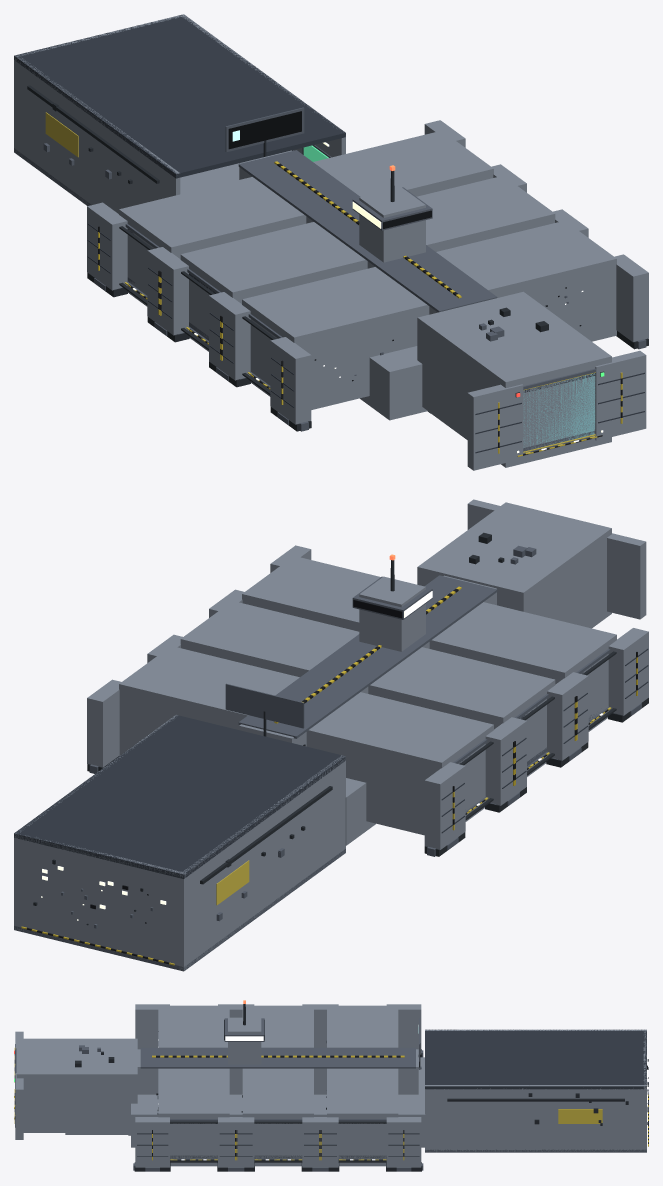
Rendered from spine-m.glb.
3 views of the same model, one above another, from view 1: azimuth 30°, elevation 25°; view 2: azimuth 150°, elevation 25°; view 3: azimuth 270°, elevation 25° (orthographic). The views are drawn at different scales.
Parts seen in each view (by area): view 1: hallRoof, heavyHall, berthSM2LBlock, berthSM2RBlock, hallWallL, berthSM0LBlock, berthSM1LBlock, keelRail, berthSM0RBlock, berthSM1RBlock, berthLBlastHouseL, berthLBlastHouseR (+17 smaller); view 2: hallRoof, hallBackWall, heavyHall, berthSM0LBlock, hallWallL, berthSM2LBlock, berthSM1LBlock, berthSM0RBlock, keelRail, berthSM1RBlock, berthSM2RBlock, controlTower (+13 smaller); view 3: hallRoof, hallWallR, heavyHall, berthSM1RBlock, berthSM0RBlock, berthSM2RBlock, keelRail, berthSM0LBlock, berthSM2LBlock, transferLiftShaft (×3), berthSM1LBlock, keel (+18 smaller).
Boxes of the visible parts, x1,y1,x2,y2 form: hallRoof: (14,14,345,178); heavyHall: (417,291,611,467); berthSM2LBlock: (242,267,429,409); berthSM2RBlock: (436,220,616,341); hallWallL: (14,55,180,213); berthSM0LBlock: (119,177,306,306); berthSM1LBlock: (180,222,367,351); keelRail: (238,150,497,312); berthSM0RBlock: (313,130,493,196); berthSM1RBlock: (416,175,555,251); berthLBlastHouseL: (467,384,523,470); berthLBlastHouseR: (595,350,646,440); hallRoof: (14,715,345,878); hallBackWall: (14,833,186,969); heavyHall: (417,502,611,628); berthSM0LBlock: (306,692,493,835); hallWallL: (179,755,345,970); berthSM2LBlock: (429,602,616,731); berthSM1LBlock: (368,647,555,776); berthSM0RBlock: (119,646,299,755); keelRail: (238,575,497,738); berthSM1RBlock: (180,601,359,677); berthSM2RBlock: (242,556,380,631); controlTower: (359,576,425,651); hallRoof: (425,1029,646,1089); hallWallR: (425,1085,646,1152); heavyHall: (16,1038,137,1132); berthSM1RBlock: (242,1068,313,1166); berthSM0RBlock: (327,1068,398,1166); berthSM2RBlock: (158,1068,229,1166); keelRail: (140,1047,415,1068); berthSM0LBlock: (327,1005,398,1047); berthSM2LBlock: (158,1005,229,1047); transferLiftShaft (×3): (131,1089,425,1147); berthSM1LBlock: (242,1005,313,1047); keel: (137,1049,418,1094).
Bounding box in the file's own units: 33.76 × 16.34 × 76.11.
